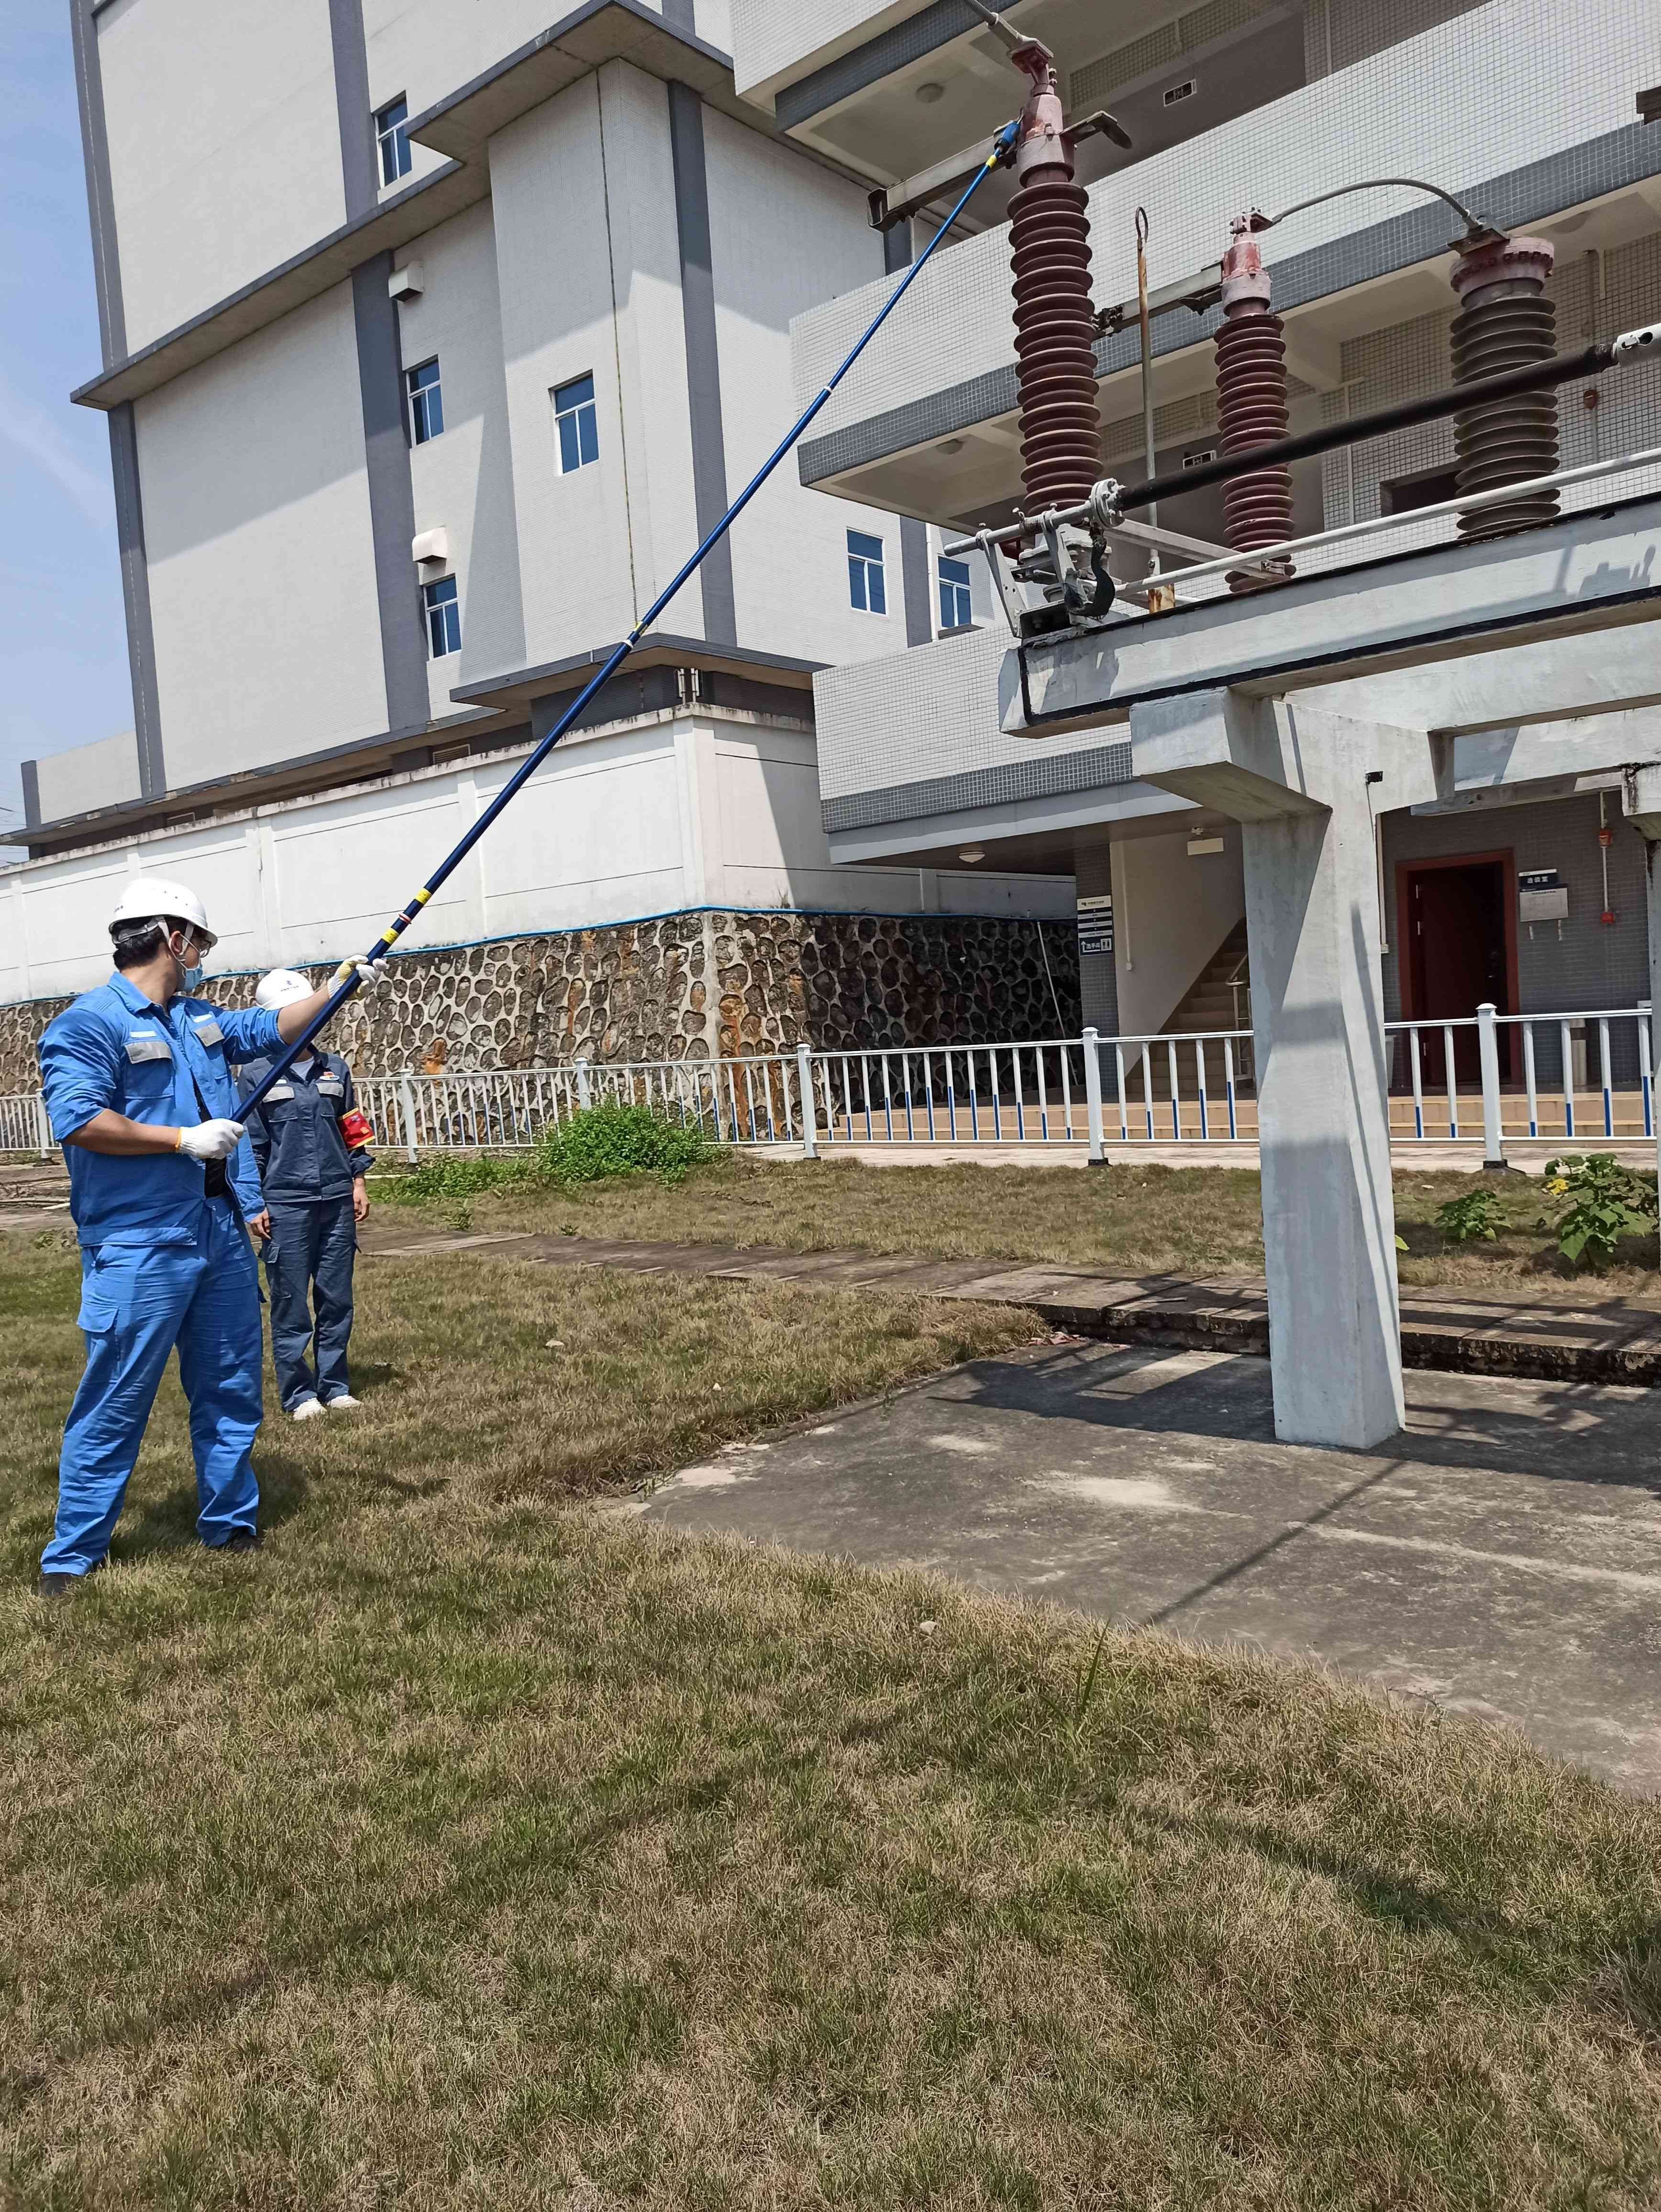downsuit: (47, 1253, 265, 1560), (272, 1205, 358, 1394)
upsuit: (35, 973, 270, 1230), (272, 1047, 368, 1200)
wrongsuit: (148, 1001, 249, 1226)
wrongtop: (58, 1104, 194, 1164), (265, 984, 351, 1052)
